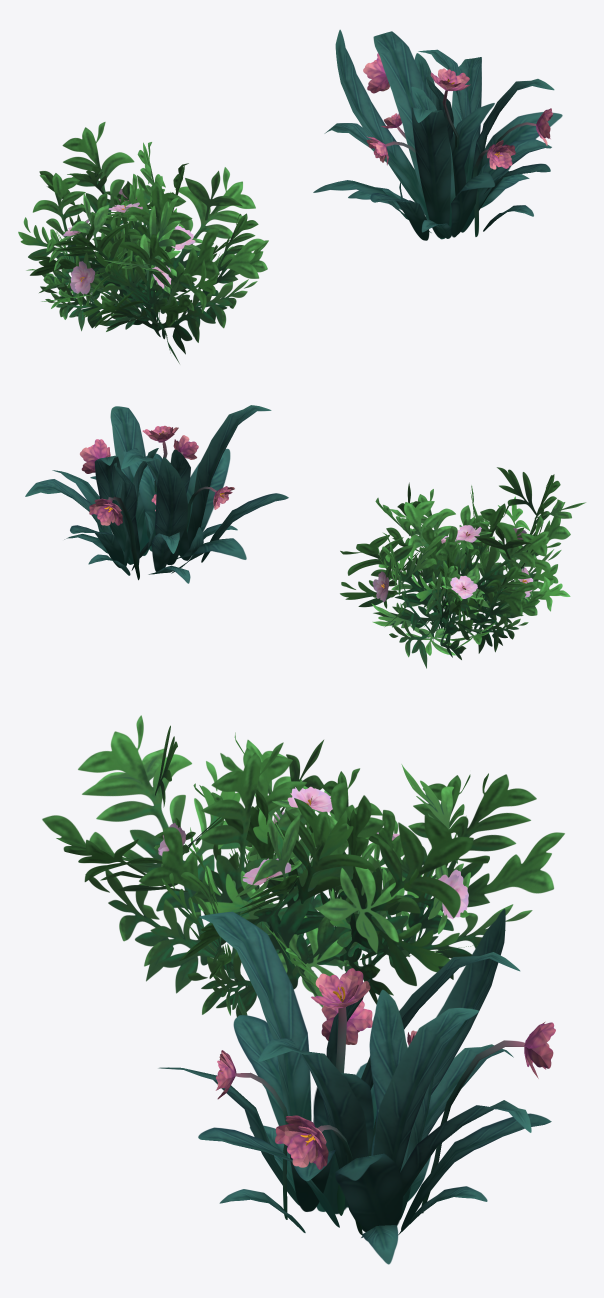
The model's file is bush2.glb.
The picture shows the model from 3 angles, top to bottom: view 1: azimuth 30°, elevation 25°; view 2: azimuth 150°, elevation 25°; view 3: azimuth 270°, elevation 25°; orthographic projection. The views are drawn at different scales.
Parts seen in each view (by area): view 1: Plane.025, Plane.028, Plane.051, Plane.027, Plane.011, Plane.046, Plane.021, Plane.022, Plane.043, Plane.029, Plane.024, Plane.060 (+25 smaller); view 2: Plane.018, Plane.022, Plane.051, Plane.011, Plane.026, Plane.023, Plane.020, Plane.057, Plane.021, Plane.061, Plane.024, Plane.027 (+30 smaller); view 3: Plane.027, Plane.018, Plane.025, Plane.021, Plane.051, Plane.028, Plane.026, Plane.061, Plane.020, Plane.057, Plane.058, Plane.011 (+29 smaller).
Part boxes in pixels (x1=…): Plane.025: x1=98, y1=175, x2=219, y2=354; Plane.028: x1=131, y1=167, x2=265, y2=336; Plane.051: x1=411, y1=106, x2=451, y2=238; Plane.027: x1=95, y1=224, x2=190, y2=363; Plane.011: x1=335, y1=29, x2=428, y2=217; Plane.046: x1=373, y1=31, x2=444, y2=239; Plane.021: x1=39, y1=122, x2=164, y2=290; Plane.022: x1=30, y1=214, x2=178, y2=328; Plane.043: x1=18, y1=173, x2=107, y2=291; Plane.029: x1=181, y1=213, x2=268, y2=320; Plane.024: x1=82, y1=235, x2=167, y2=331; Plane.060: x1=450, y1=103, x2=494, y2=196; Plane.018: x1=340, y1=526, x2=476, y2=628; Plane.022: x1=463, y1=515, x2=549, y2=653; Plane.051: x1=187, y1=405, x2=271, y2=560; Plane.011: x1=155, y1=457, x2=187, y2=564; Plane.026: x1=390, y1=501, x2=505, y2=613; Plane.023: x1=457, y1=564, x2=545, y2=645; Plane.020: x1=426, y1=503, x2=516, y2=637; Plane.057: x1=110, y1=406, x2=145, y2=563; Plane.021: x1=377, y1=532, x2=433, y2=668; Plane.061: x1=94, y1=455, x2=133, y2=564; Plane.024: x1=460, y1=533, x2=560, y2=623; Plane.027: x1=496, y1=474, x2=570, y2=601; Plane.027: x1=42, y1=715, x2=257, y2=981; Plane.018: x1=320, y1=795, x2=489, y2=1004; Plane.025: x1=139, y1=742, x2=315, y2=993; Plane.021: x1=360, y1=773, x2=564, y2=979; Plane.051: x1=199, y1=911, x2=311, y2=1121; Plane.028: x1=179, y1=810, x2=357, y2=1017; Plane.026: x1=194, y1=789, x2=410, y2=971; Plane.061: x1=373, y1=1007, x2=478, y2=1172; Plane.020: x1=198, y1=748, x2=409, y2=960; Plane.057: x1=258, y1=1038, x2=368, y2=1231; Plane.058: x1=335, y1=1153, x2=403, y2=1230; Plane.011: x1=373, y1=908, x2=505, y2=1129.
Bounding box in the file's own units: 21.32 × 7.25 × 12.27.
1 material, 1 textured.
